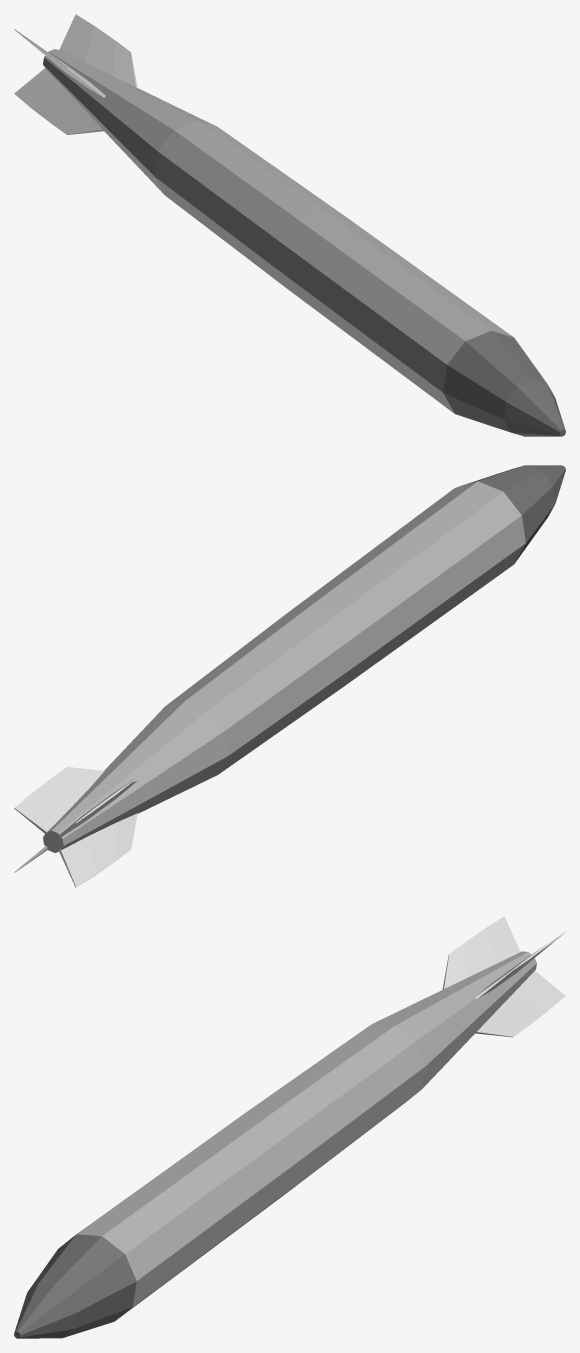
Rendered from SM_bomb01.fbx.
The picture shows the model from 3 angles, top to bottom: view 1: azimuth 30°, elevation 25°; view 2: azimuth 150°, elevation 25°; view 3: azimuth 330°, elevation 25°; orthographic projection.
Visible parts, largest first — view 1: Cylinder; view 2: Cylinder; view 3: Cylinder.
Boxes of the visible parts, left/top/right/bottom form: Cylinder: left=14, top=14, right=565, bottom=436; Cylinder: left=14, top=465, right=565, bottom=887; Cylinder: left=14, top=916, right=565, bottom=1338.
Bounding box in the file's own units: 33.5 × 33.5 × 363.
